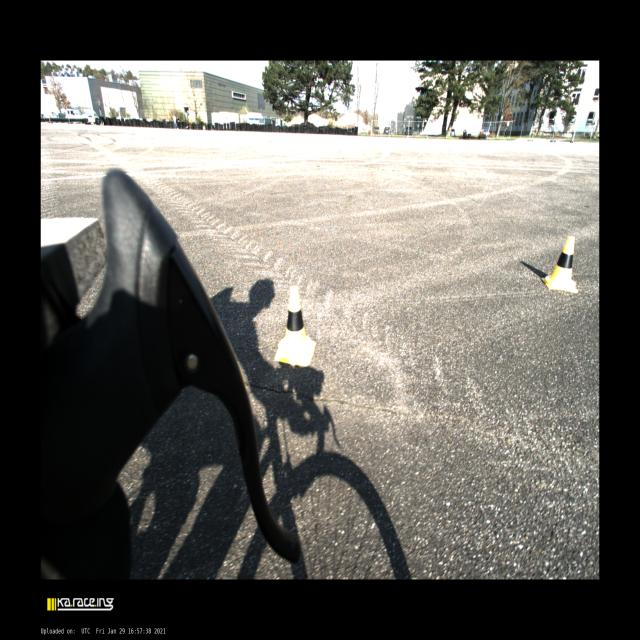yellow_cone: (274, 285, 316, 367), (541, 236, 578, 293)
